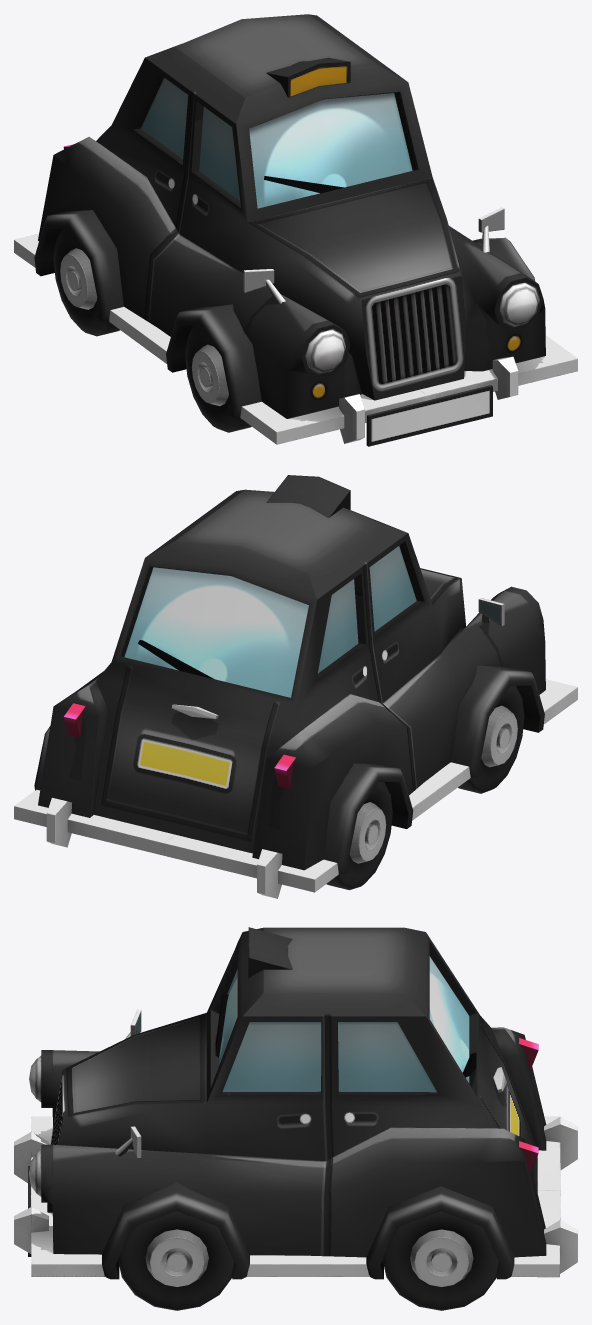
The model's file is Black_cab.fbx.
The picture shows the model from 3 angles, top to bottom: view 1: azimuth 30°, elevation 25°; view 2: azimuth 150°, elevation 25°; view 3: azimuth 270°, elevation 25°; orthographic projection.
Parts seen in each view (by area): view 1: polySurface49, polySurface41, polySurface61, polySurface60, polySurface50, polySurface59, polySurface58, polySurface44, polySurface43, polySurface47, polySurface69, polySurface68 (+3 smaller); view 2: polySurface49, polySurface42, polySurface61, polySurface60, polySurface59, polySurface58, polySurface44, polySurface43, polySurface48, polySurface71, polySurface70, polySurface67 (+1 smaller); view 3: polySurface49, polySurface62, polySurface63, polySurface46, polySurface45, polySurface65, polySurface64, polySurface42, polySurface48, polySurface71, polySurface70, polySurface68 (+2 smaller).
Part boxes in pixels (x1,y1,x2,y2): polySurface49: (14, 14, 577, 444); polySurface41: (249, 93, 412, 208); polySurface61: (166, 304, 261, 417); polySurface60: (34, 210, 123, 321); polySurface50: (366, 385, 492, 446); polySurface59: (53, 228, 119, 336); polySurface58: (185, 325, 251, 432); polySurface44: (199, 106, 240, 200); polySurface43: (140, 77, 188, 159); polySurface47: (288, 62, 350, 97); polySurface69: (339, 394, 364, 443); polySurface68: (492, 356, 518, 399); polySurface49: (14, 489, 577, 892); polySurface42: (124, 567, 308, 697); polySurface61: (450, 665, 544, 777); polySurface60: (323, 763, 413, 874); polySurface59: (326, 782, 392, 890); polySurface58: (458, 685, 524, 793); polySurface44: (369, 546, 416, 631); polySurface43: (317, 579, 358, 673); polySurface48: (266, 475, 350, 517); polySurface71: (46, 797, 71, 847); polySurface70: (257, 849, 282, 898); polySurface67: (138, 640, 214, 679); polySurface49: (29, 927, 560, 1277); polySurface62: (118, 1211, 234, 1310); polySurface63: (382, 1211, 498, 1310); polySurface46: (222, 1022, 321, 1091); polySurface45: (338, 1022, 436, 1092); polySurface65: (102, 1182, 249, 1279); polySurface64: (366, 1186, 514, 1279); polySurface42: (429, 956, 469, 1083); polySurface48: (248, 927, 291, 977); polySurface71: (544, 1220, 577, 1273); polySurface70: (544, 1117, 577, 1169); polySurface68: (14, 1207, 48, 1253).
Size of the model in its own units: 2.97 by 2.8 by 4.66.
